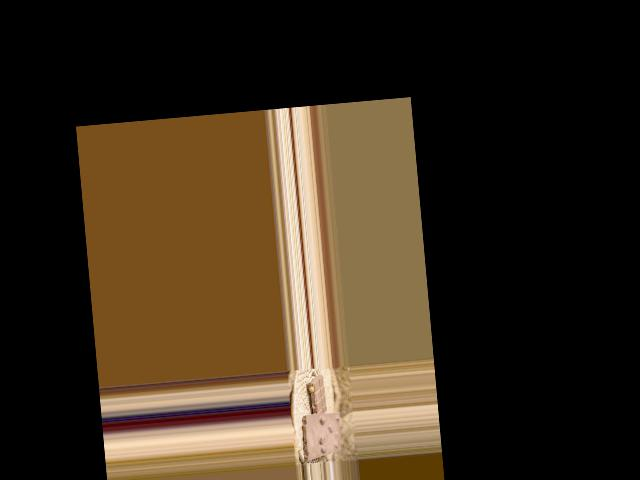chocolate: (300, 409, 344, 461)
